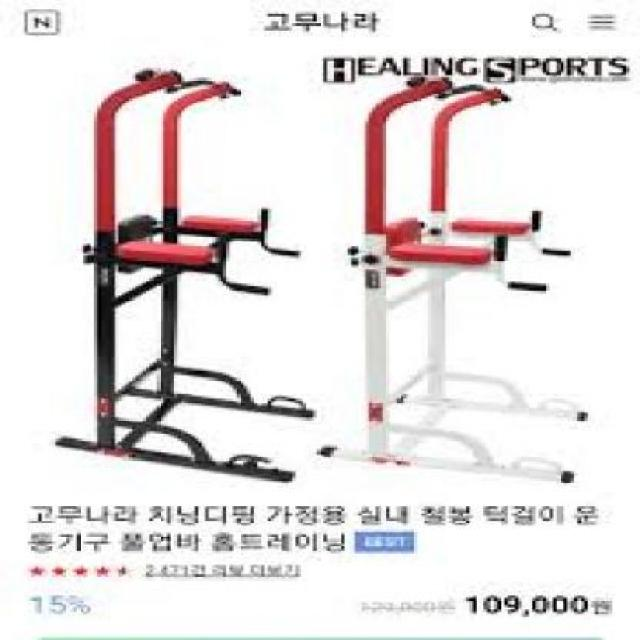chinning dipping: (51, 68, 317, 483)
